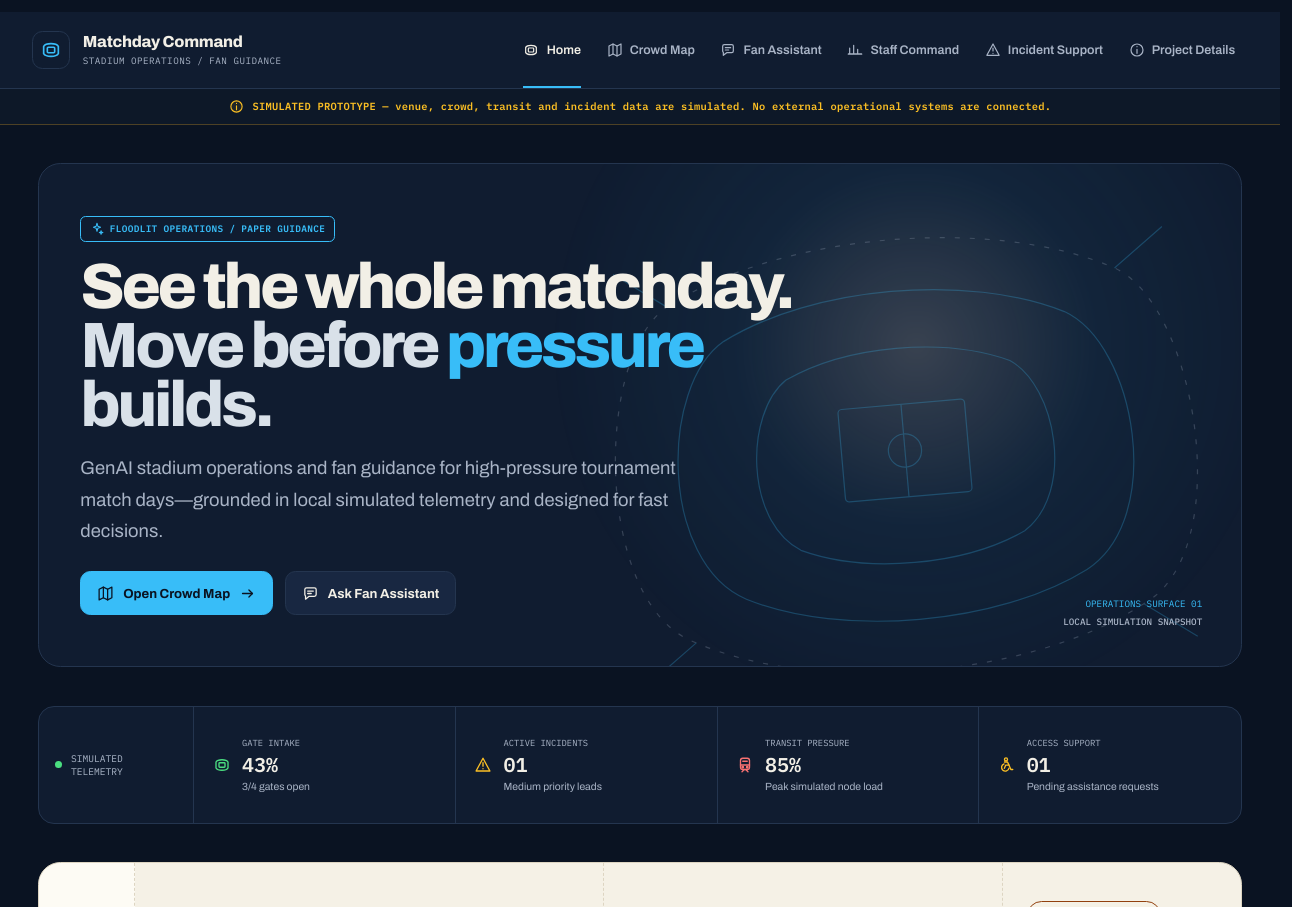
Test case: Matchday Command Base Application › navigates from the homepage CTAs to Crowd Map and Fan Assistant
Click the button "Open Crowd Map" at (177, 593), box x1=80 y1=571 x2=273 y2=615
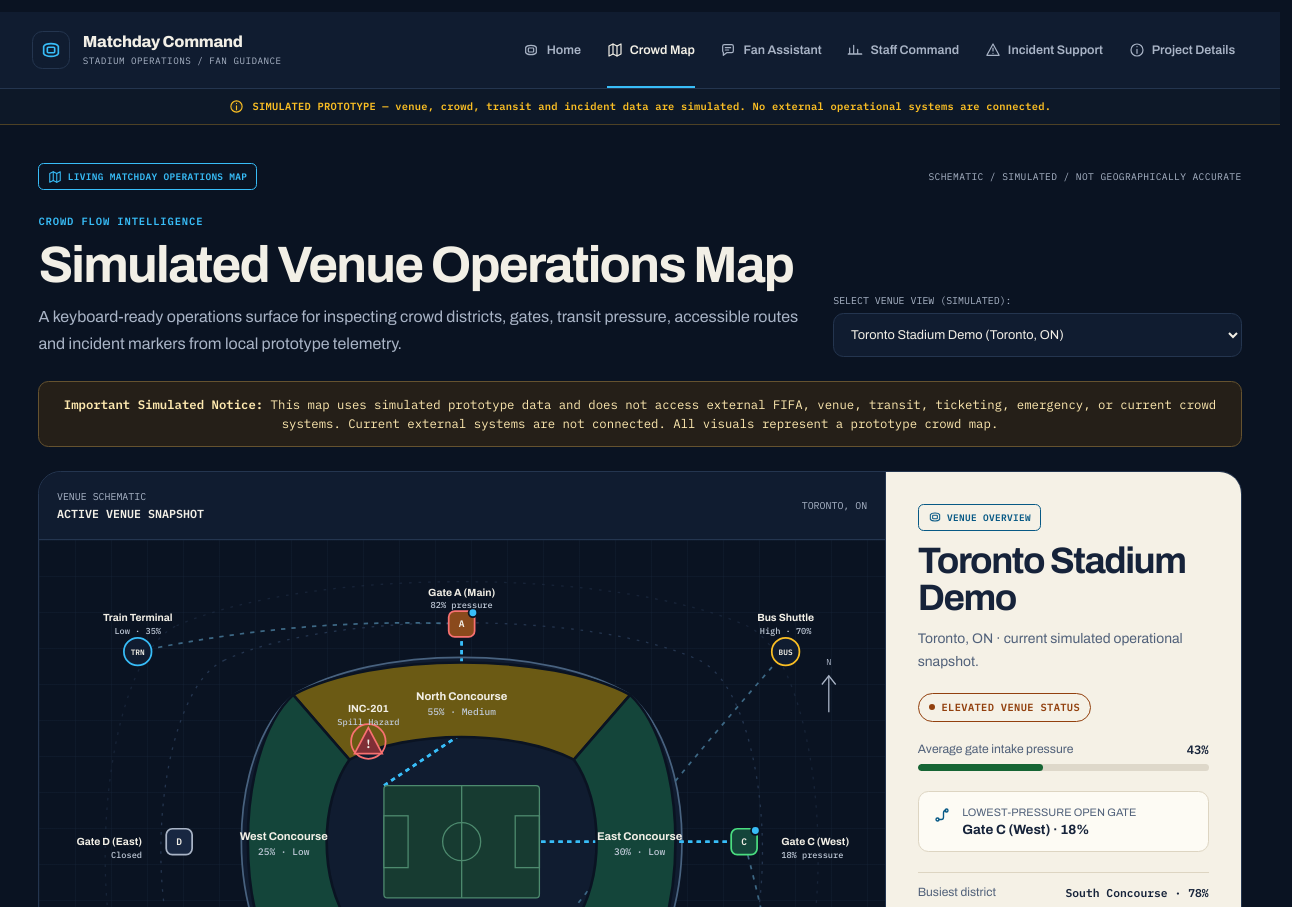
Expected: the heading "Simulated Venue Operations Map" is shown, x1=38 y1=239 x2=798 y2=291
Click the button "Home" at (552, 50), box x1=511 y1=12 x2=594 y2=88
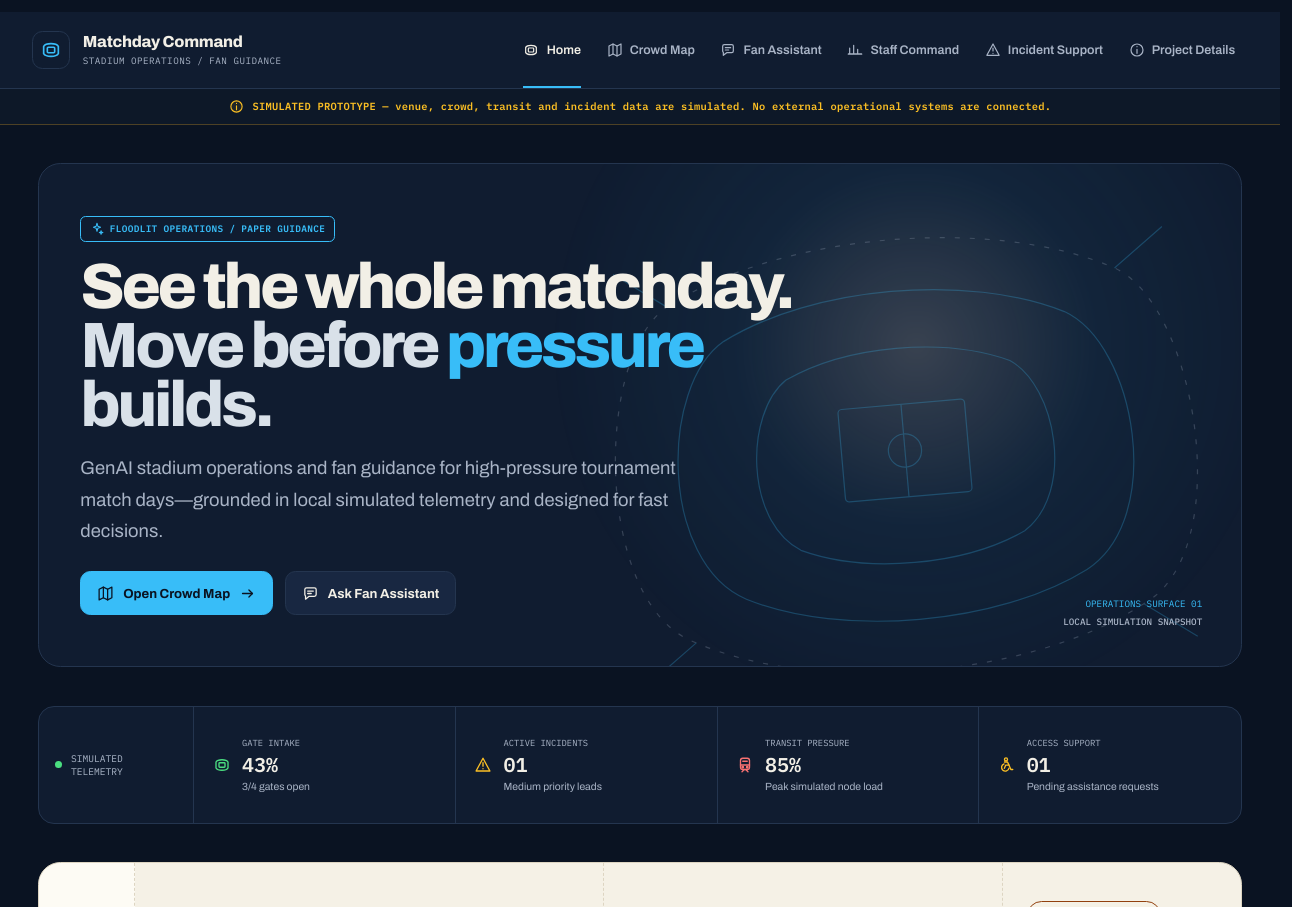
Click the button "Ask Fan Assistant" at (371, 593), box x1=285 y1=571 x2=456 y2=615
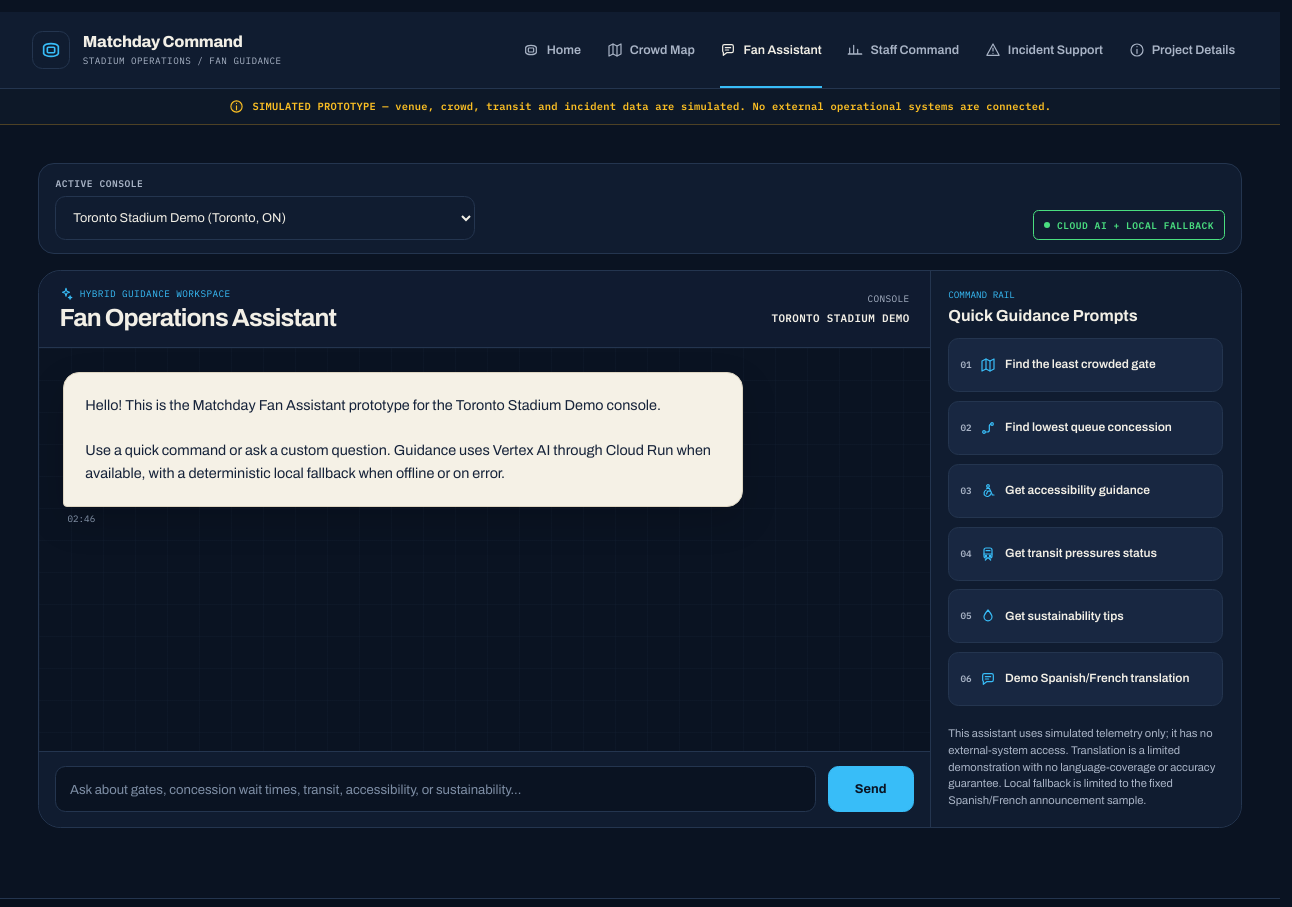
Expected: the heading "Fan Operations Assistant" is shown, x1=59 y1=306 x2=336 y2=331
